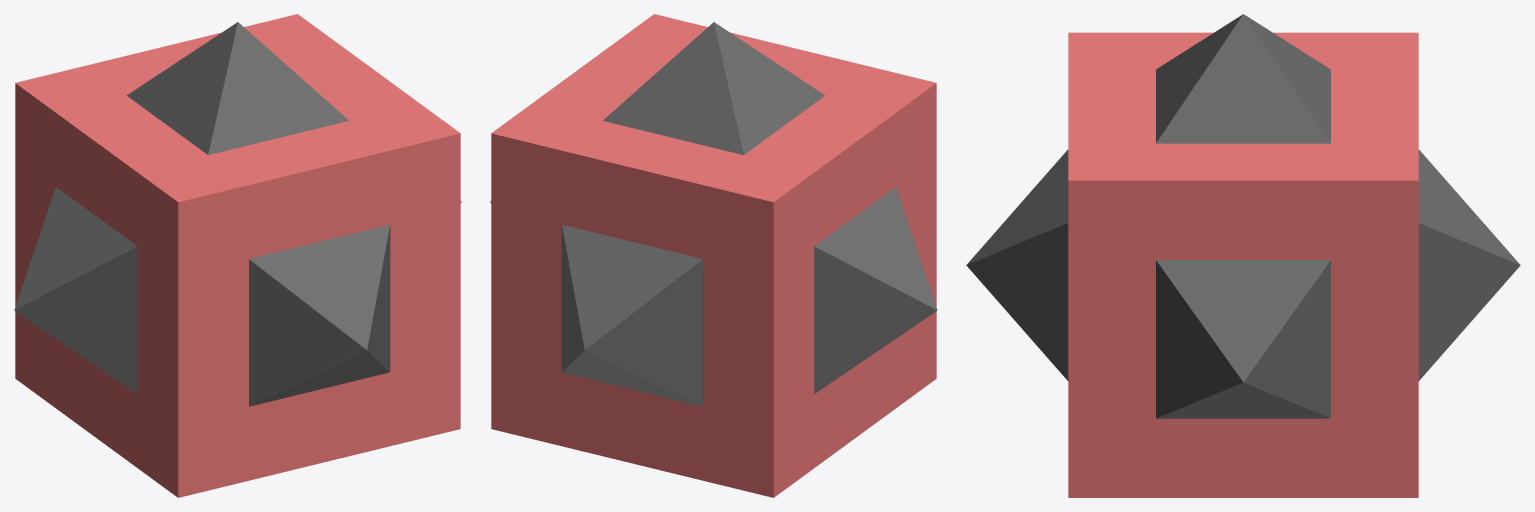
File: hazard.gltf
The picture shows the model from 3 angles, left to right: view 1: azimuth 30°, elevation 25°; view 2: azimuth 150°, elevation 25°; view 3: azimuth 270°, elevation 25°; orthographic projection. The views are drawn at different scales.
Parts seen in each view (by area): view 1: Hazard; view 2: Hazard; view 3: Hazard.
Part boxes in pixels (x1,y1,x2,y2): Hazard: (14,14,461,497); Hazard: (490,14,937,497); Hazard: (966,14,1520,497).
Size of the model in its own units: 1.9 by 1.55 by 1.9.
